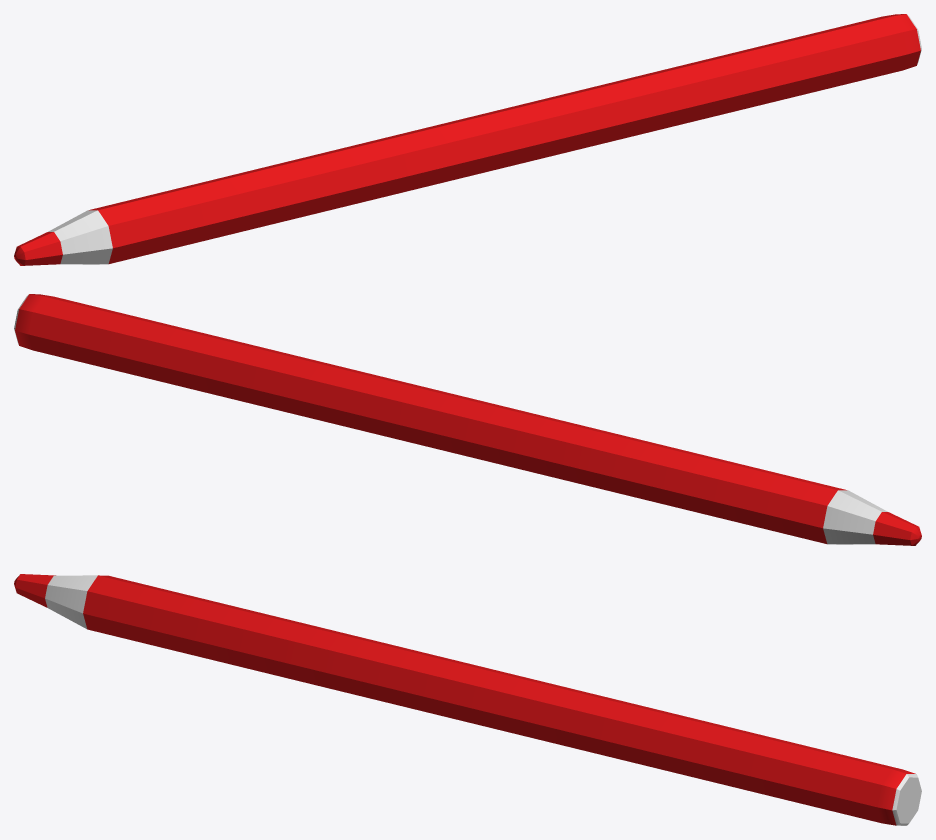
File: Pencil.fbx
3 views of the same model, one above another, from view 1: azimuth 30°, elevation 25°; view 2: azimuth 150°, elevation 25°; view 3: azimuth 330°, elevation 25° (orthographic).
Parts seen in each view (by area): view 1: Cylinder; view 2: Cylinder; view 3: Cylinder.
Part boxes in pixels (x1,y1,x2,y2): Cylinder: (14, 14, 921, 265); Cylinder: (14, 294, 921, 545); Cylinder: (14, 574, 921, 825).
Size of the model in its own units: 6 by 0.3483 by 0.3483.
